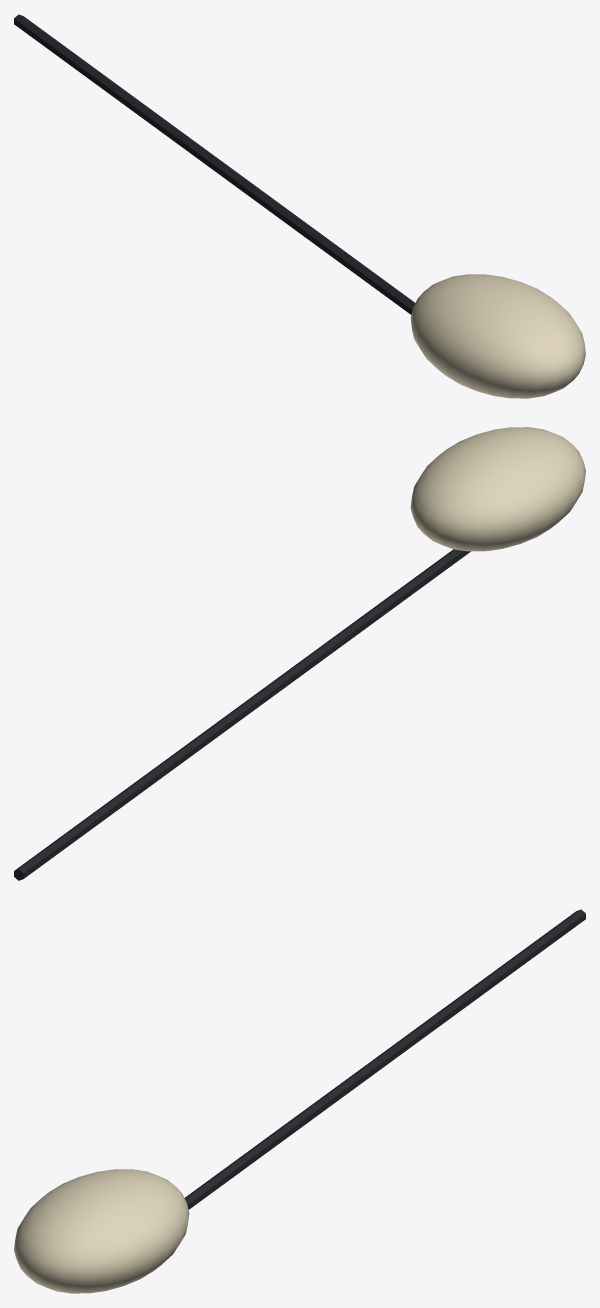
The model's file is mouse.glb.
3 views of the same model, one above another, from view 1: azimuth 30°, elevation 25°; view 2: azimuth 150°, elevation 25°; view 3: azimuth 330°, elevation 25° (orthographic).
Parts seen in each view (by area): view 1: Sphere, Cylinder; view 2: Sphere, Cylinder; view 3: Sphere, Cylinder.
Boxes of the visible parts, x1,y1,x2,y2 form: Sphere: (410, 274, 585, 398); Cylinder: (14, 14, 415, 314); Sphere: (410, 427, 585, 551); Cylinder: (14, 549, 470, 880); Sphere: (14, 1169, 189, 1293); Cylinder: (184, 909, 585, 1209).
Size of the model in its own units: 0.048 by 0.03 by 0.336.
